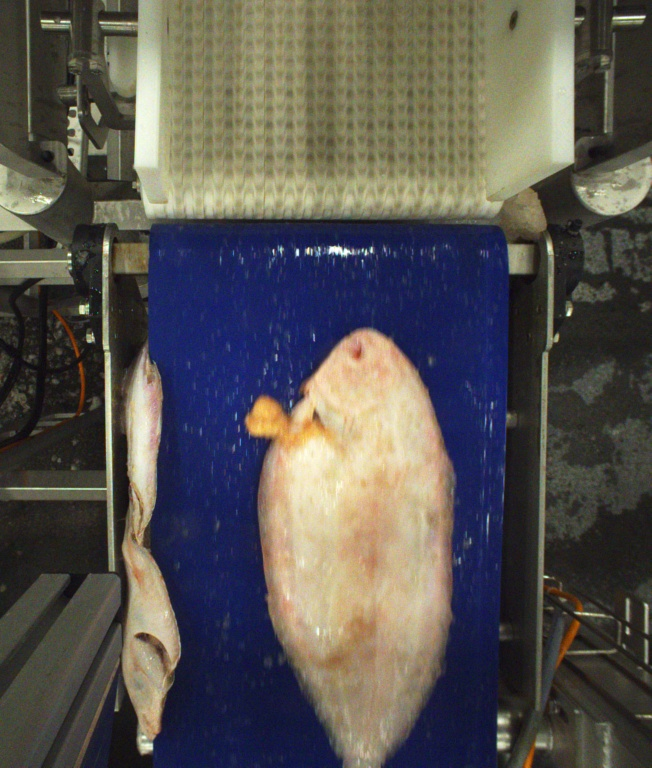SOL: (263, 326, 457, 766)
